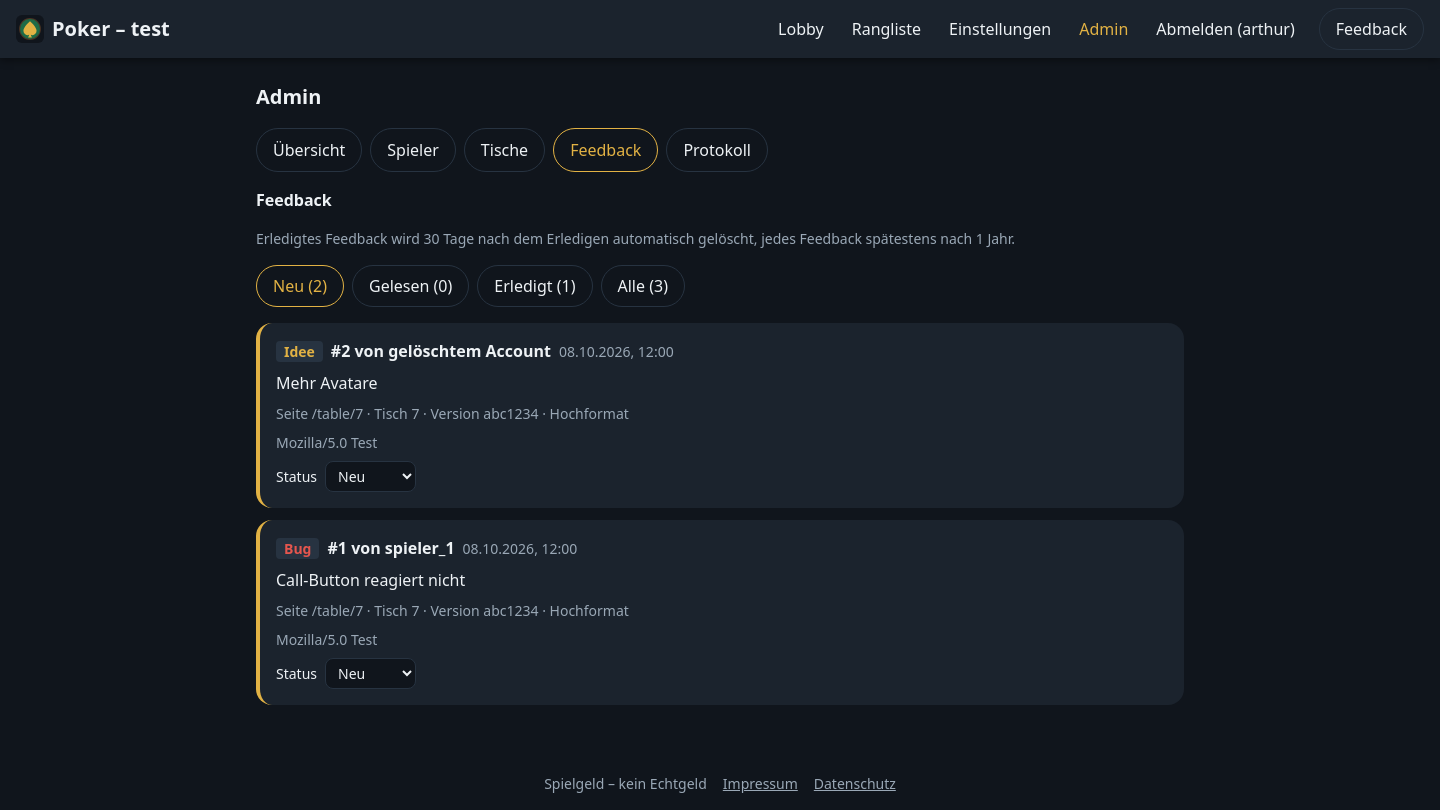
Test: /admin/feedback › zeigt Fehler beim Statuswechsel
Select "Erledigt" in the dropdown named "Status von #1": (370, 674) top-left (325, 658), bottom-right (416, 689)
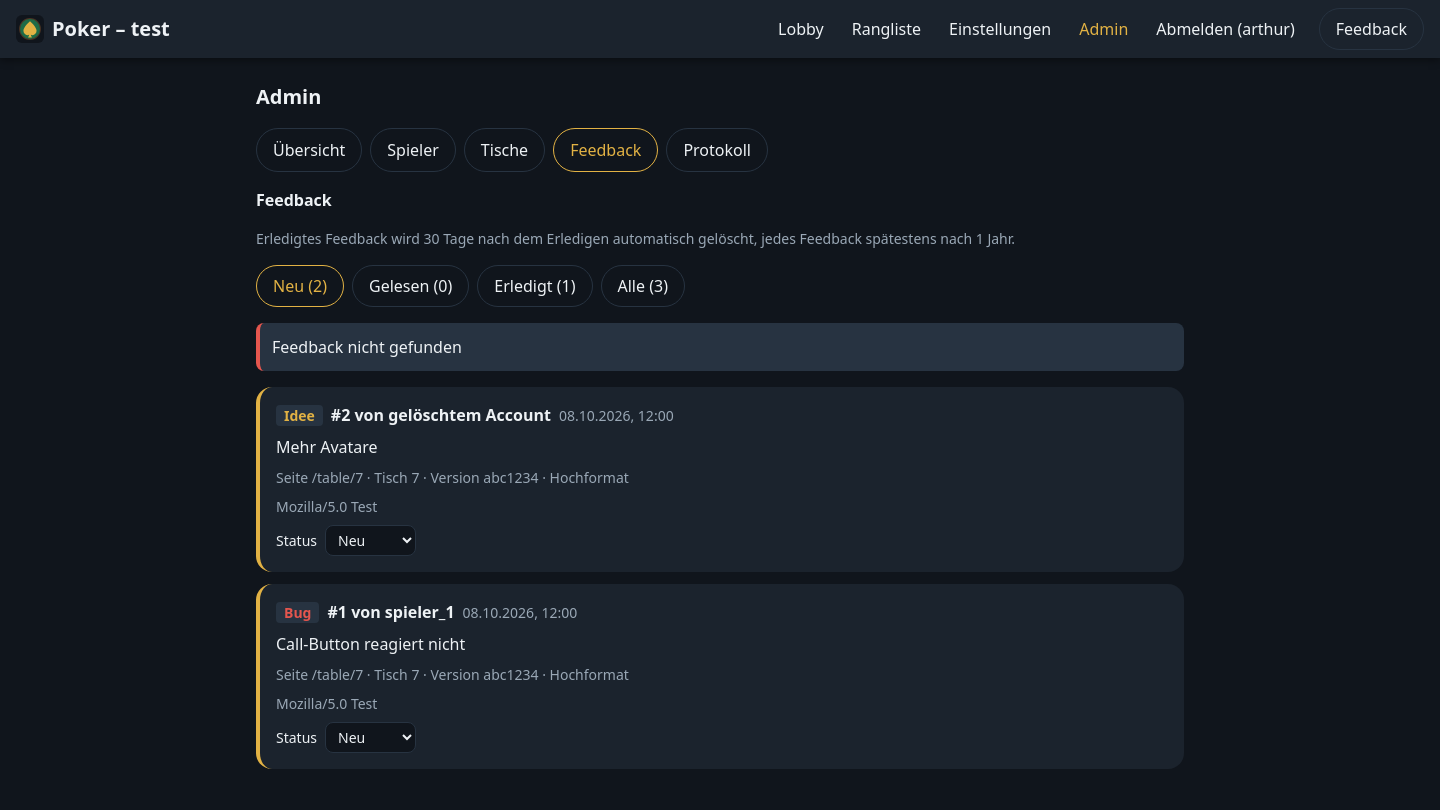
Expected: the message reads "Feedback nicht gefunden", top-left (272, 336), bottom-right (462, 358)
